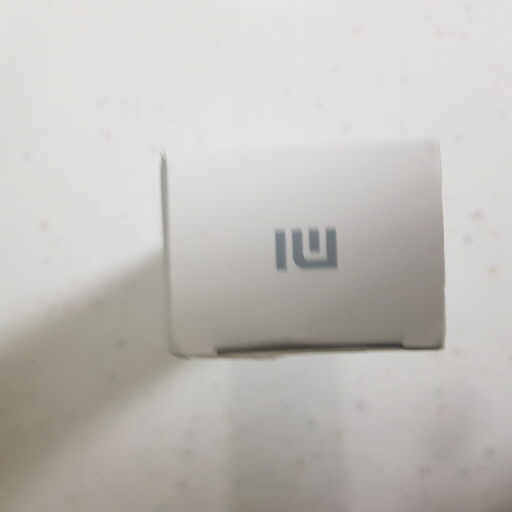Paper_0: (154, 136, 459, 363)
